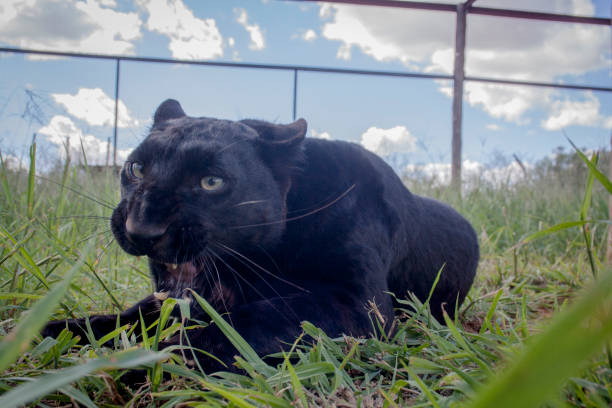panther: (102, 97, 328, 326)
